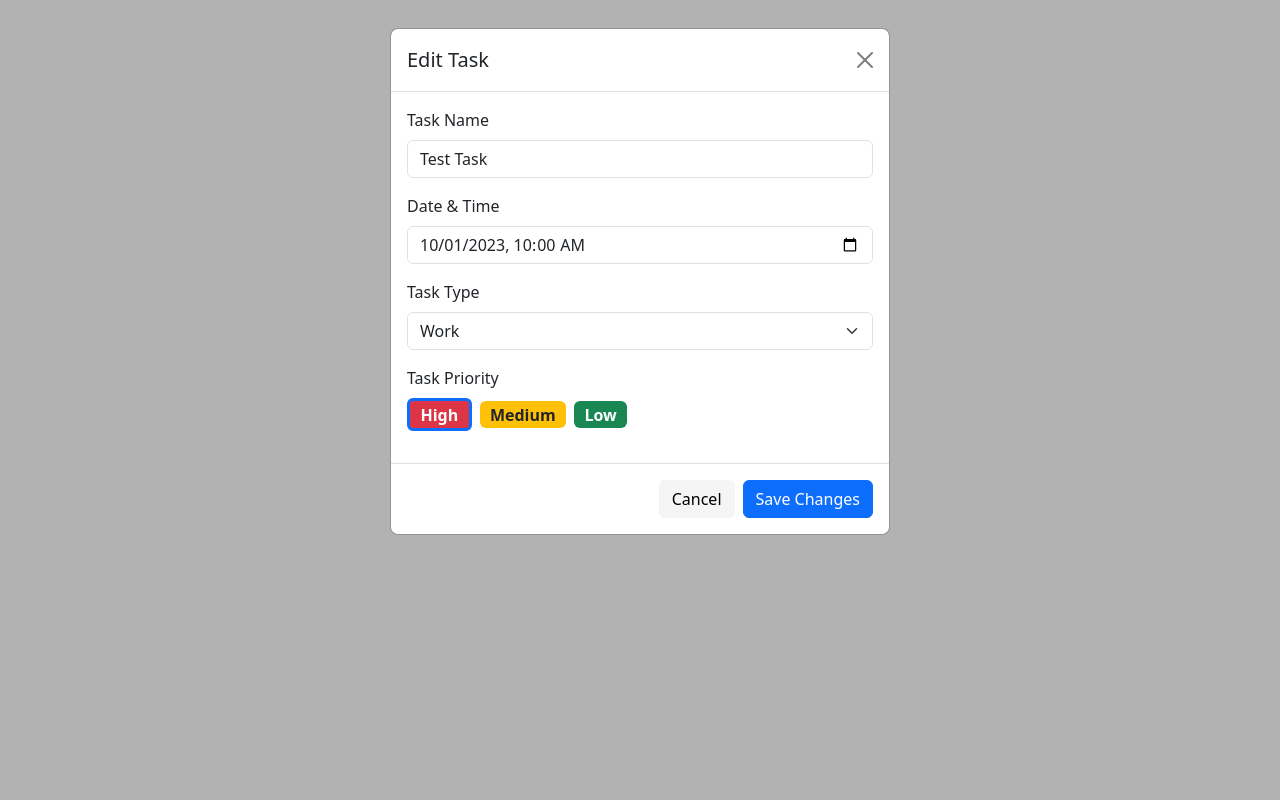
Test case: EditTask Component › shows validation errors if fields are empty
# Clear all fields
Clear the field labelled "Task Name" at (640,159), box [407,140,873,178]
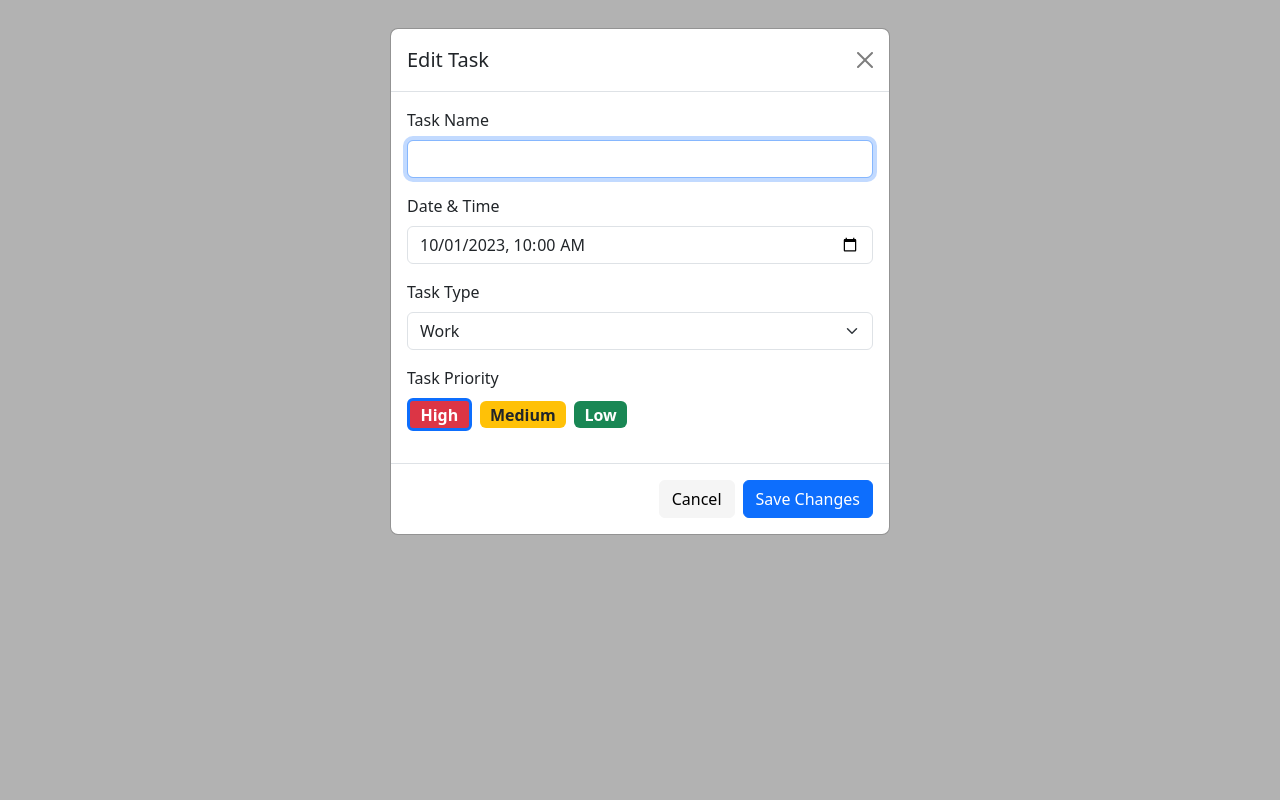
Clear the field labelled "Date & Time" at (640,245), box [407,226,873,264]
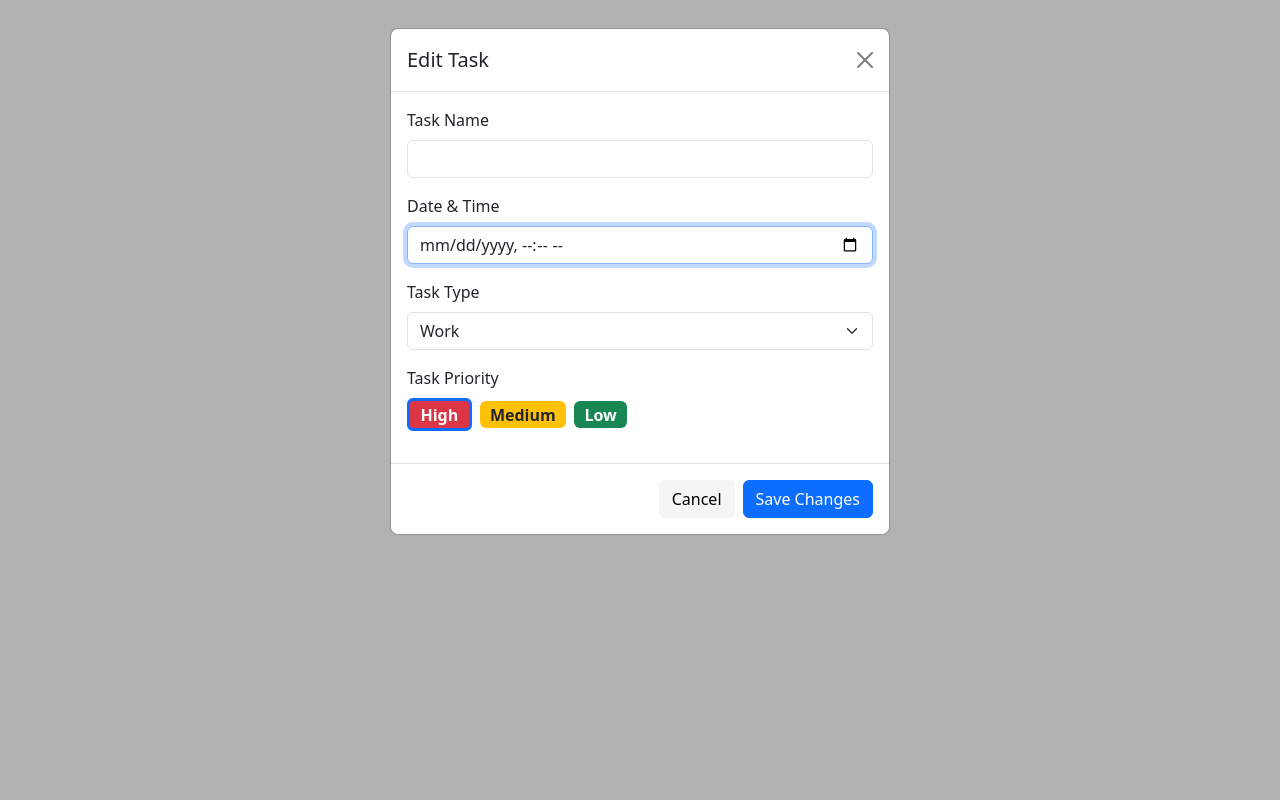
Select "Select type" in the dropdown labelled "Task Type" at (640,331), box [407,312,873,350]
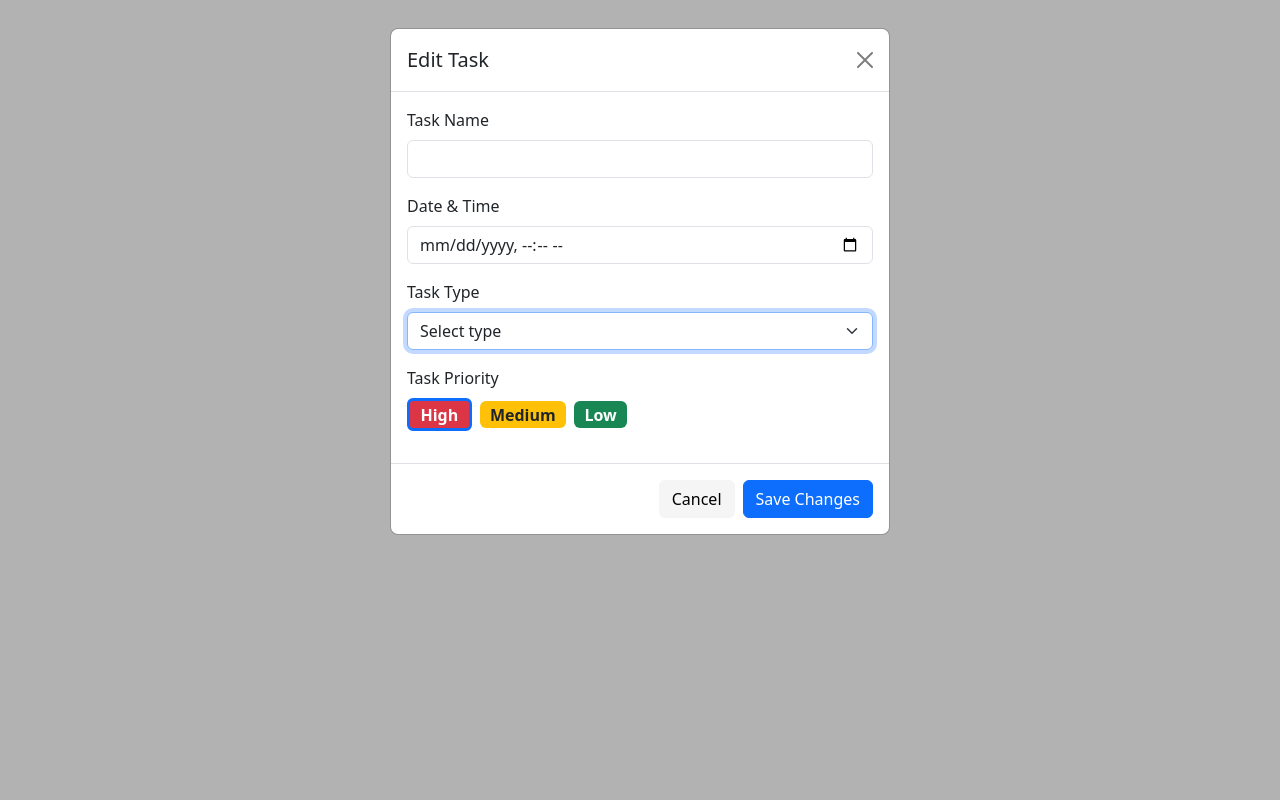
Click the button "Save Changes" at (808,499), box [742,480,873,518]
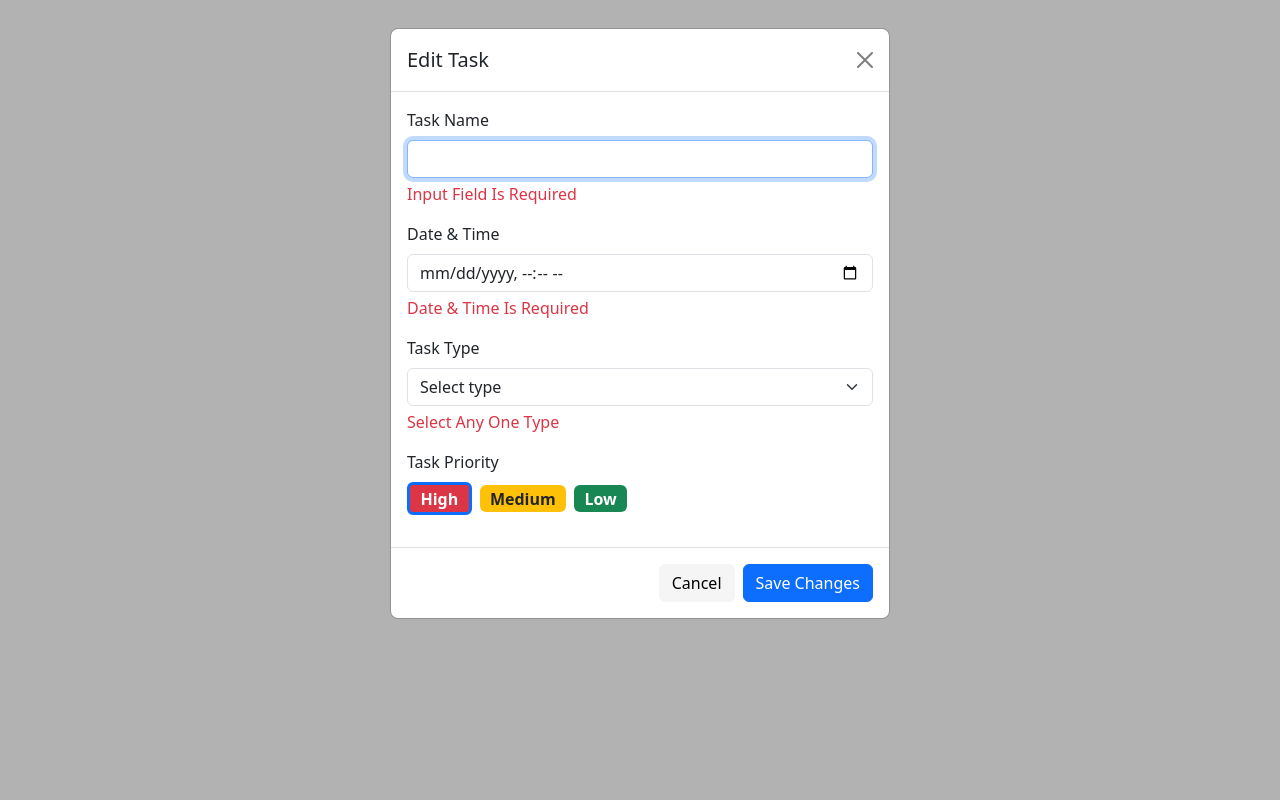
Result: the text "Input Field Is Required" is shown at [407,183,577,205]
Result: the text "Date & Time Is Required" is shown at [407,297,589,319]
Result: the text "Select Any One Type" is shown at [407,411,559,433]
